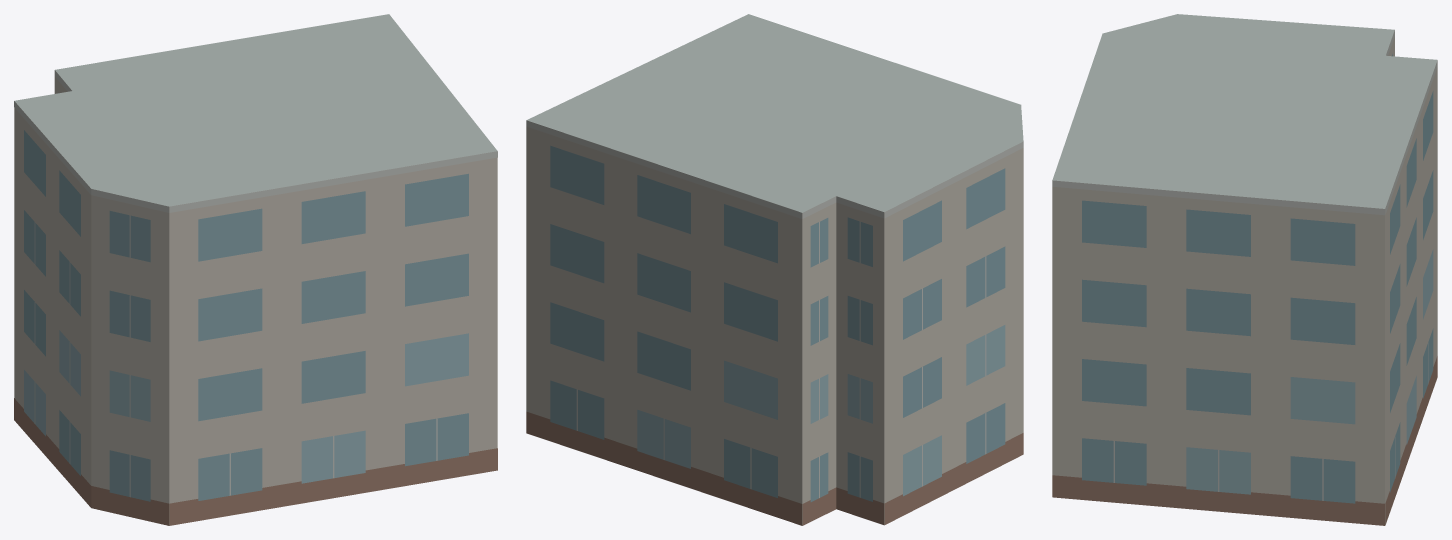
File: survey-upis-32528250.glb
3 views of the same model, side by side, from view 1: azimuth 30°, elevation 25°; view 2: azimuth 150°, elevation 25°; view 3: azimuth 270°, elevation 25° (orthographic).
Parts seen in each view (by area): view 1: survey-upis-32528250.tmp; view 2: survey-upis-32528250.tmp; view 3: survey-upis-32528250.tmp.
Part boxes in pixels (box(x1,y1,x2,y2)): survey-upis-32528250.tmp: box(14, 14, 497, 525); survey-upis-32528250.tmp: box(526, 14, 1023, 525); survey-upis-32528250.tmp: box(1052, 14, 1437, 525).
Size of the model in its own units: 16.11 by 12.2 by 13.46.
